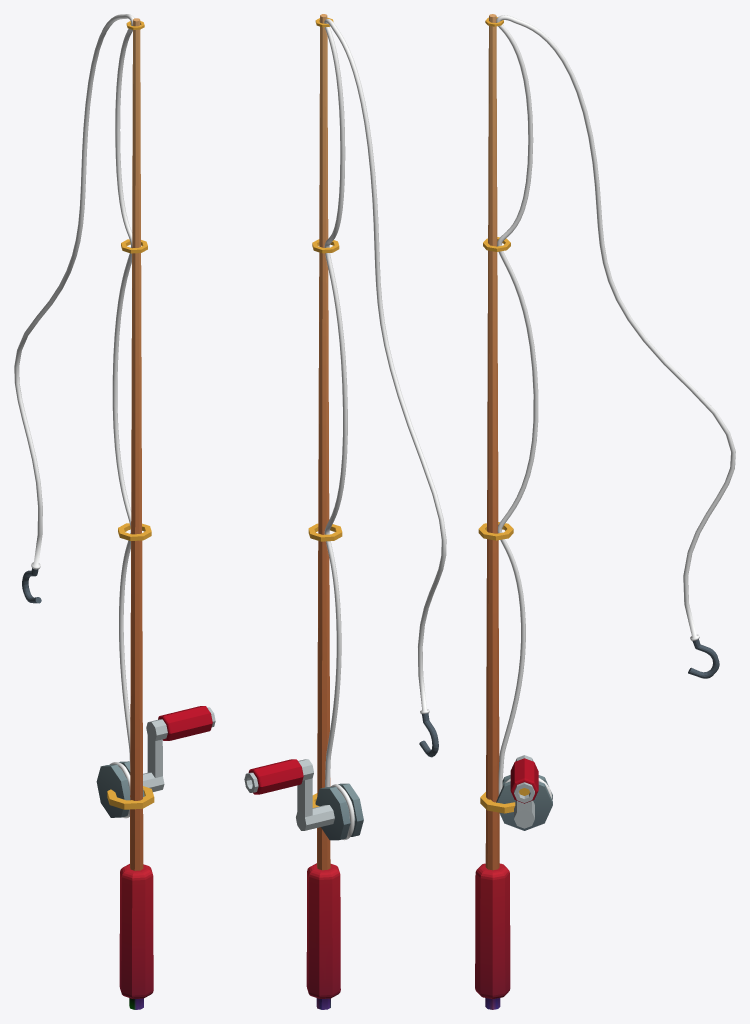
Rendered from FishingRod.fbx.
The picture shows the model from 3 angles, left to right: view 1: azimuth 30°, elevation 25°; view 2: azimuth 210°, elevation 25°; view 3: azimuth 270°, elevation 25°; orthographic projection.
Visible parts, largest first — view 1: FishingRod; view 2: FishingRod; view 3: FishingRod.
Boxes of the visible parts, x1,y1,x2,y2 form: FishingRod: (14,14,215,1009); FishingRod: (244,14,446,1009); FishingRod: (475,14,735,1009).
Bounding box in the file's own units: 0.1757 × 1.5 × 0.3573.
